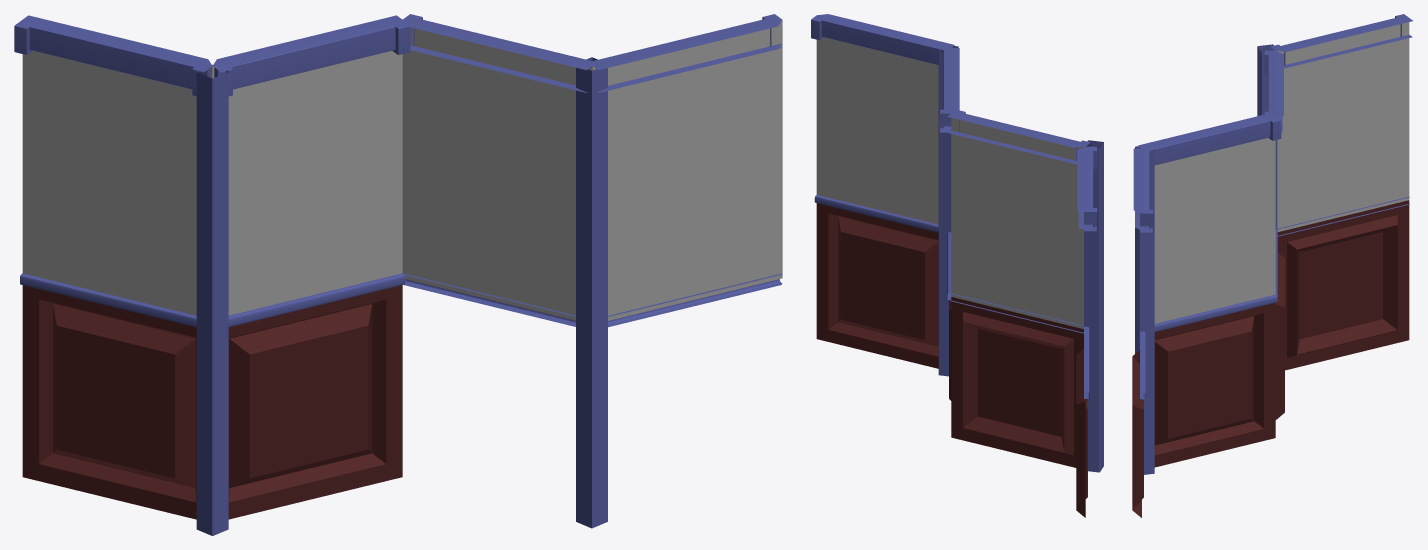
The model's file is wall_ba_room.fbx.
3 renders of one model, left to right at view 1: azimuth 30°, elevation 25°; view 2: azimuth 150°, elevation 25°; view 3: azimuth 270°, elevation 25°, orthographic. The views are drawn at different scales.
Parts seen in each view (by area): view 1: zal; view 2: zal; view 3: zal.
Boxes of the visible parts, x1,y1,x2,y2 form: zal: (14, 14, 782, 535); zal: (811, 14, 1103, 517); zal: (1132, 14, 1412, 517).
Size of the model in its own units: 306 by 230 by 182.
